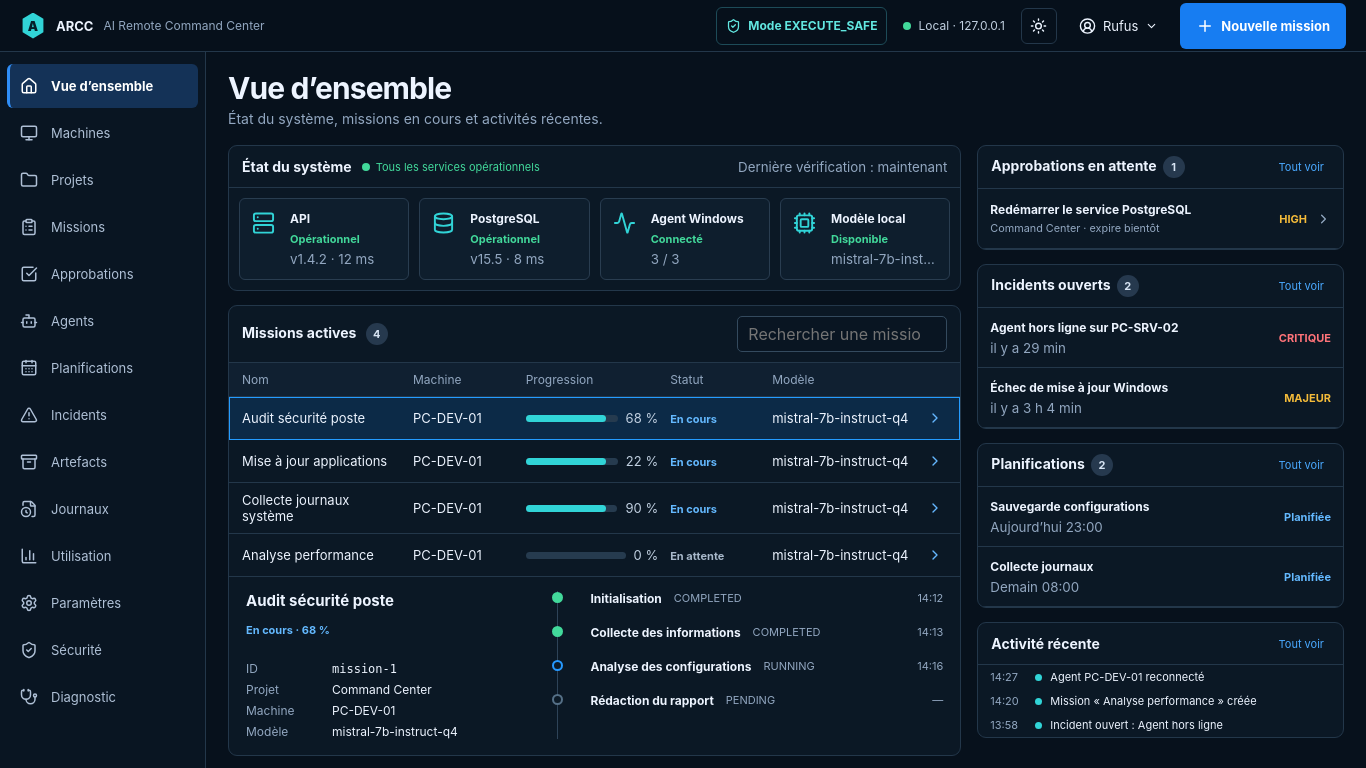
Scenario: dashboard application › renders the overview and opens the exact approval dialog by keyboard
Expected: the heading "Vue d’ensemble" is shown, [228, 70, 451, 106]
What coordinates should you click on to do the following:
click the button "Redémarrer le service PostgreSQL"
I would click on:
 (1161, 219)
Its box is [978, 189, 1343, 249].
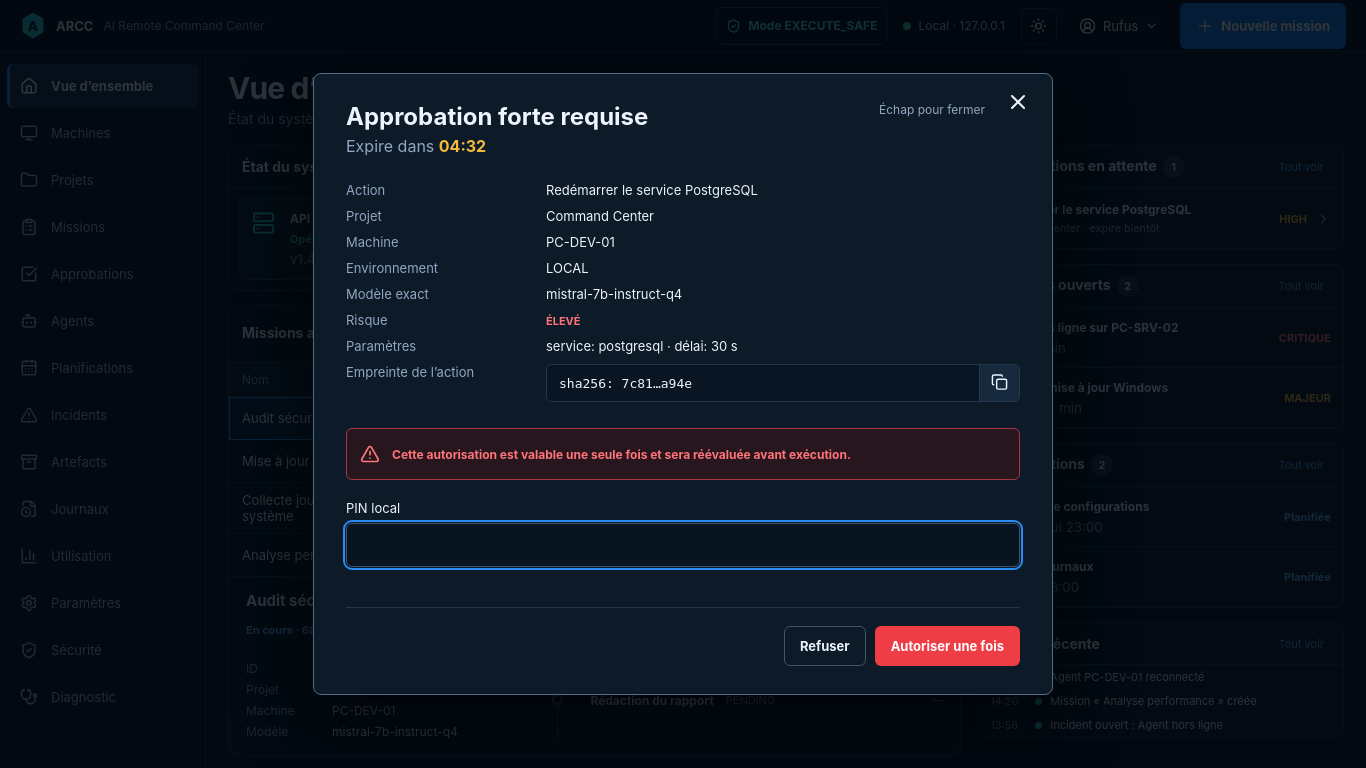
Now the dialog "Approbation forte requise" is shown, box [313, 73, 1053, 695]
Now the text "sha256: 7c81…a94e" is shown, box [559, 376, 692, 390]
